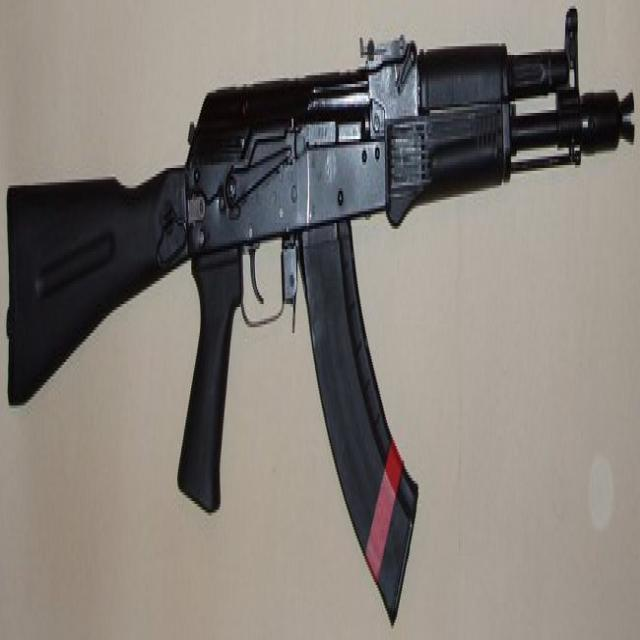weapon: (4, 7, 636, 630)
